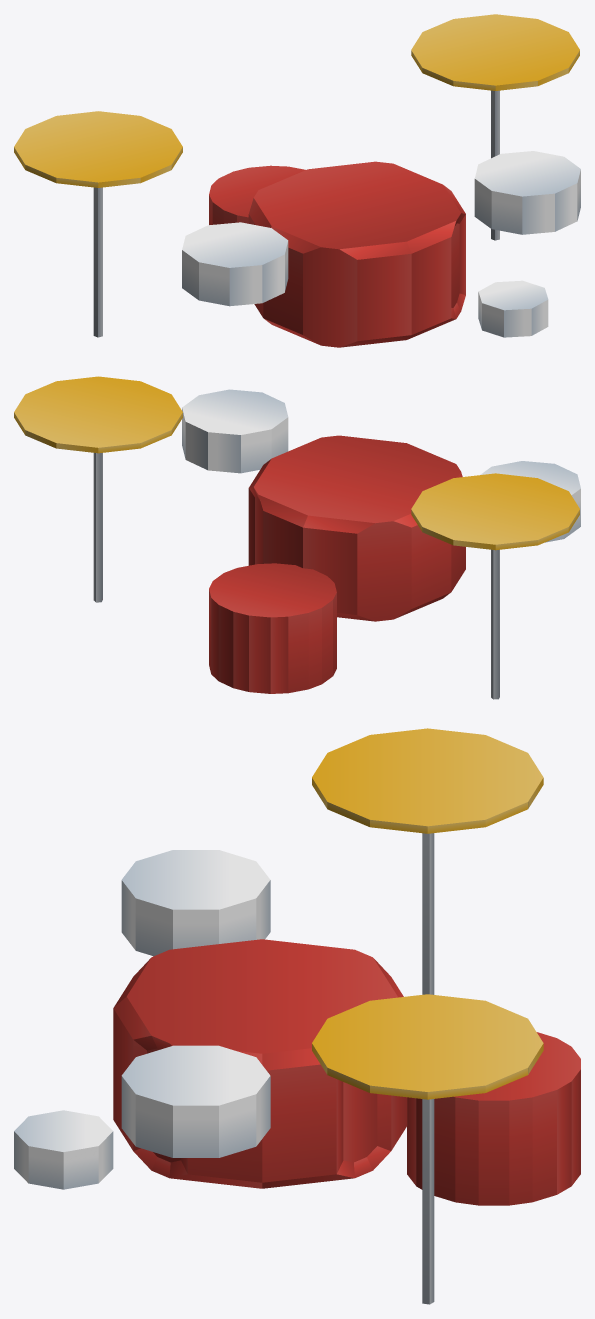
Rendered from dt_drum_kit.fbx.
3 renders of one model, top to bottom at view 1: azimuth 30°, elevation 25°; view 2: azimuth 150°, elevation 25°; view 3: azimuth 270°, elevation 25°, orthographic. The views are drawn at different scales.
Visible parts, largest first — view 1: dt_drum_kit; view 2: dt_drum_kit; view 3: dt_drum_kit.
Part boxes in pixels (x1,y1,x2,y2): dt_drum_kit: [14, 14, 580, 347]; dt_drum_kit: [14, 376, 580, 699]; dt_drum_kit: [14, 728, 580, 1304].
Bounding box in the file's own units: 500 × 166 × 329.
